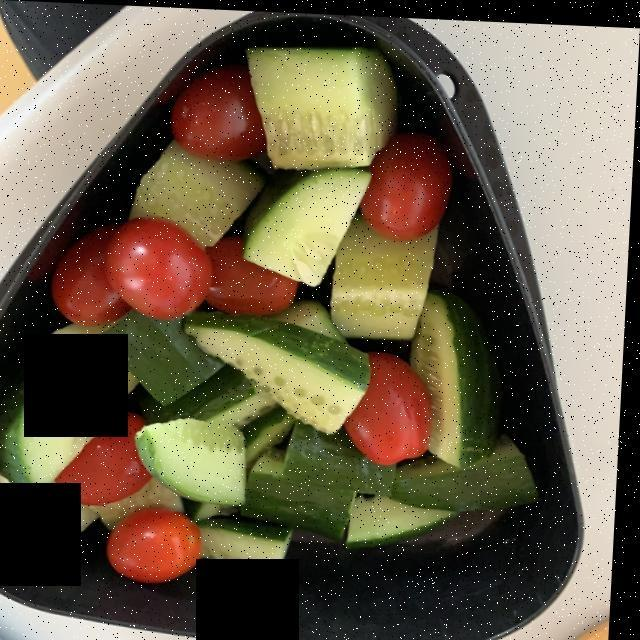cucumber: (0, 32, 542, 568)
tomato: (61, 66, 451, 569)
